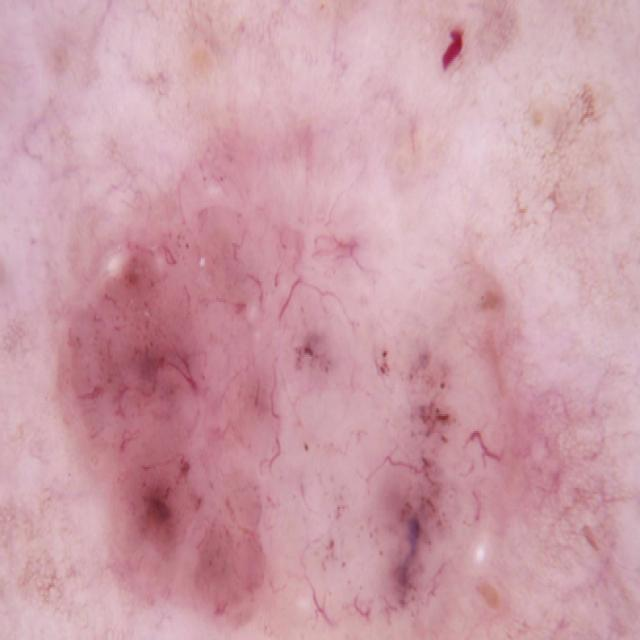Carcinoma: (48, 131, 609, 640)
